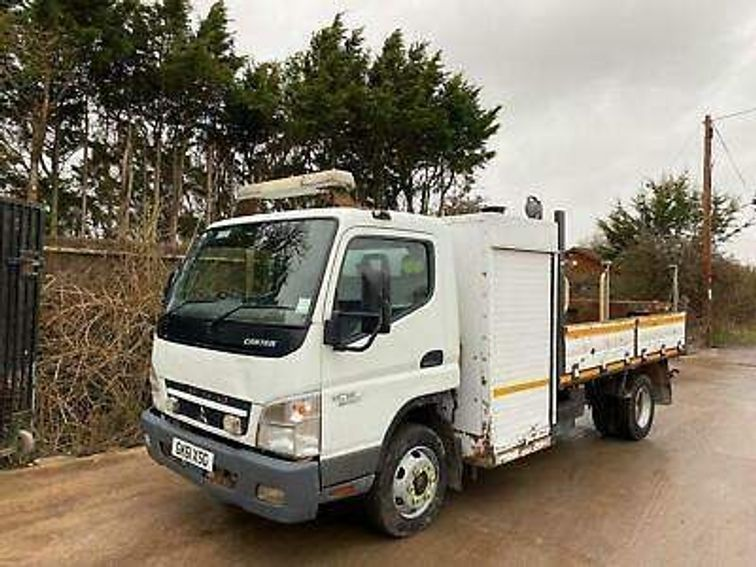Semi: (140, 168, 684, 537)
